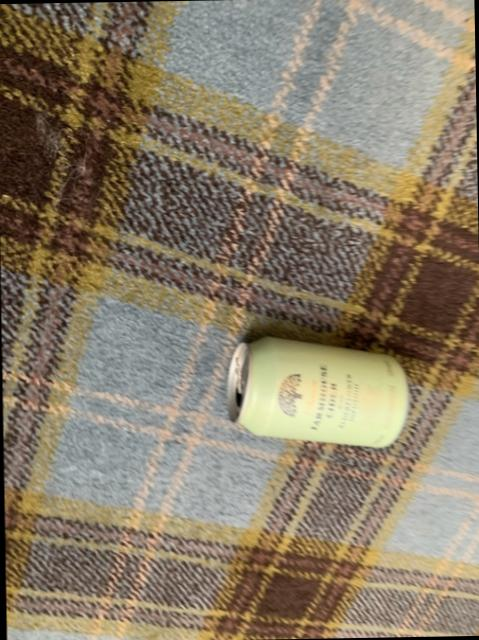metal: (228, 338, 409, 448)
